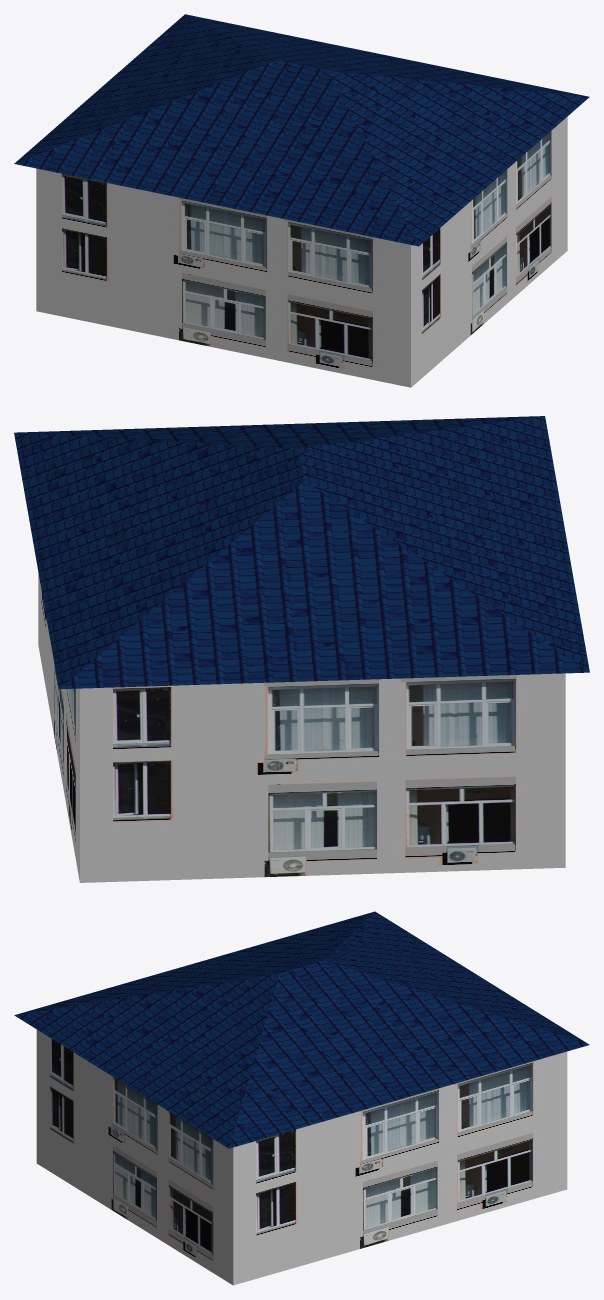
The picture shows the model from 3 angles, top to bottom: view 1: azimuth 30°, elevation 25°; view 2: azimuth 150°, elevation 25°; view 3: azimuth 270°, elevation 25°; orthographic projection. The views are drawn at different scales.
Visible parts, largest first — view 1: CityEngineMaterial_6_m, CityEngineMaterial_9_m; view 2: CityEngineMaterial_6_m, CityEngineMaterial_9_m; view 3: CityEngineMaterial_9_m, CityEngineMaterial_6_m.
Boxes of the visible parts, <box> form: CityEngineMaterial_6_m: <box>14,14,589,246</box>; CityEngineMaterial_9_m: <box>36,117,567,387</box>; CityEngineMaterial_6_m: <box>14,416,589,689</box>; CityEngineMaterial_9_m: <box>38,573,565,882</box>; CityEngineMaterial_9_m: <box>36,1029,567,1285</box>; CityEngineMaterial_6_m: <box>14,911,589,1148</box>.
Size of the model in its own units: 32.25 by 13.27 by 33.08.
